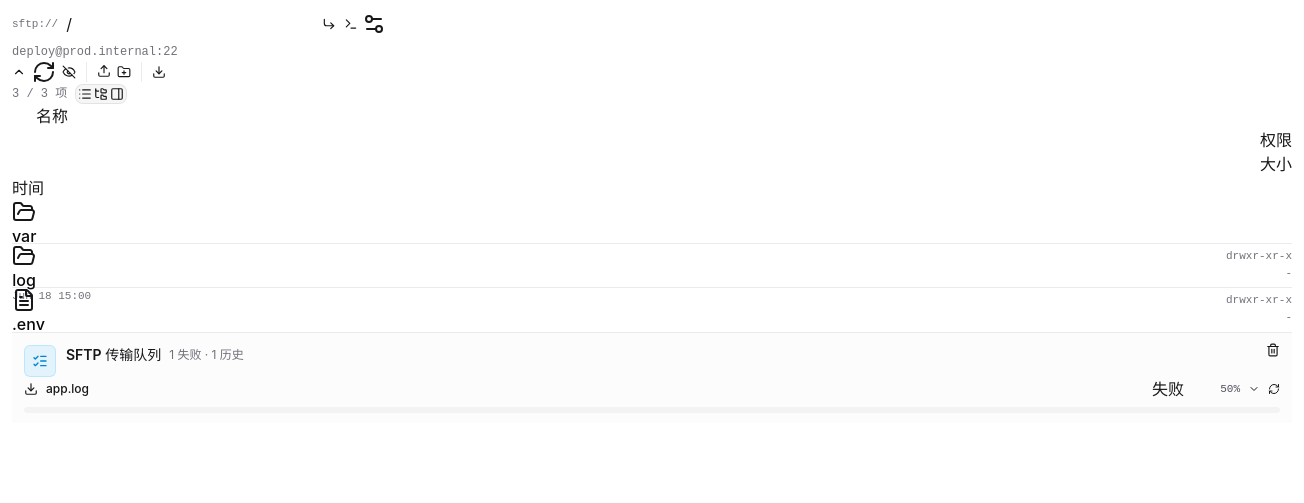
Scenario: SftpToolContent events and dialogs › updates transfer progress from Tauri events without waiting for polling
Expected: the text "var" is shown, left=12, top=226, right=36, bottom=246
Expected: the text "SFTP 传输队列" is shown, left=66, top=345, right=161, bottom=365
Click the button named "查看传输详情 app.log" at (1254, 389), box left=1248, top=383, right=1260, bottom=395
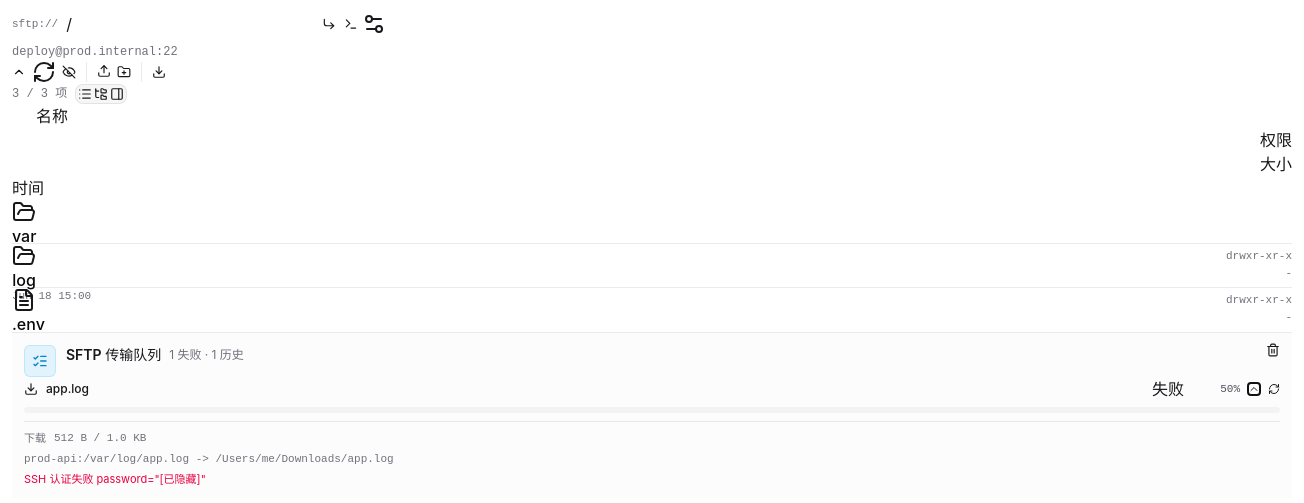
Now the text "SSH 认证失败 password=\"[已隐藏]\"" is shown, box left=24, top=472, right=206, bottom=486
